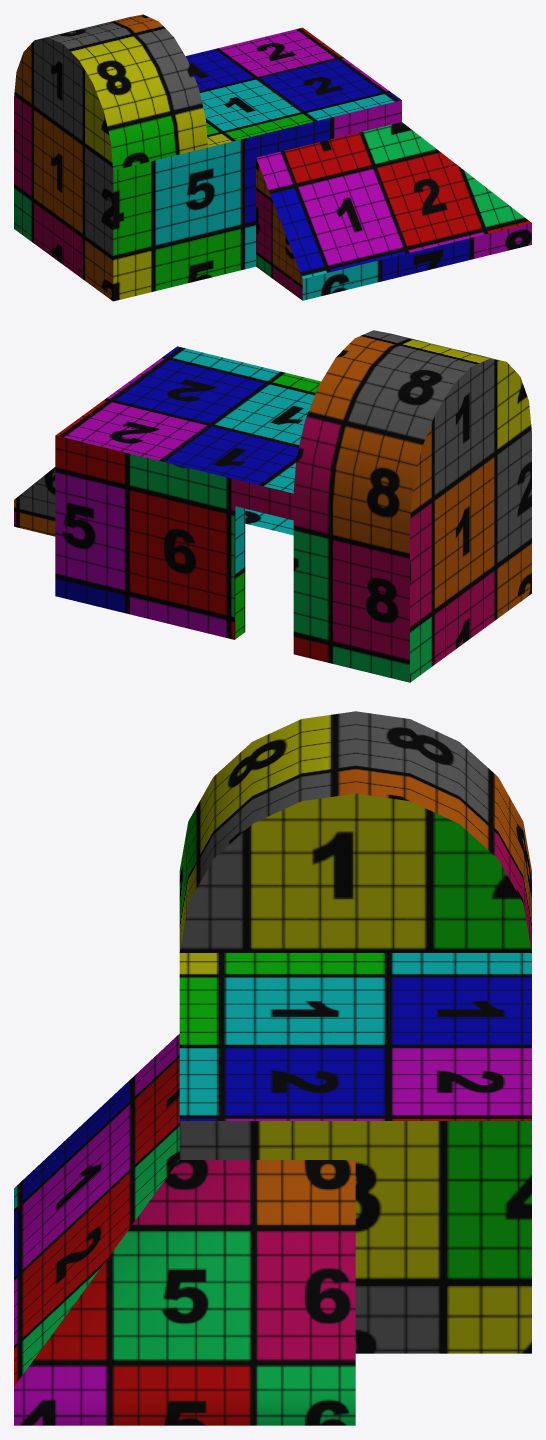
The model's file is M_Jacobs_Assignment_4_UV_Mapped_Object.fbx.
The picture shows the model from 3 angles, top to bottom: view 1: azimuth 30°, elevation 25°; view 2: azimuth 150°, elevation 25°; view 3: azimuth 270°, elevation 25°; orthographic projection. The views are drawn at different scales.
Parts seen in each view (by area): view 1: pCylinder1; view 2: pCylinder1; view 3: pCylinder1.
Boxes of the visible parts, <box> form: pCylinder1: <box>14,14,531,301</box>; pCylinder1: <box>14,330,531,682</box>; pCylinder1: <box>14,711,531,1425</box>.
Size of the model in its own units: 17.86 by 10.12 by 12.12.
1 material, 1 textured.
